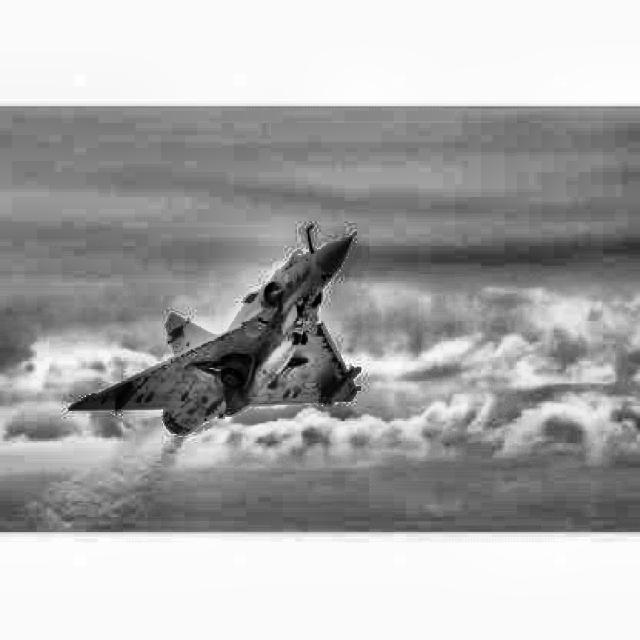Mirage2000: (68, 223, 360, 434)
